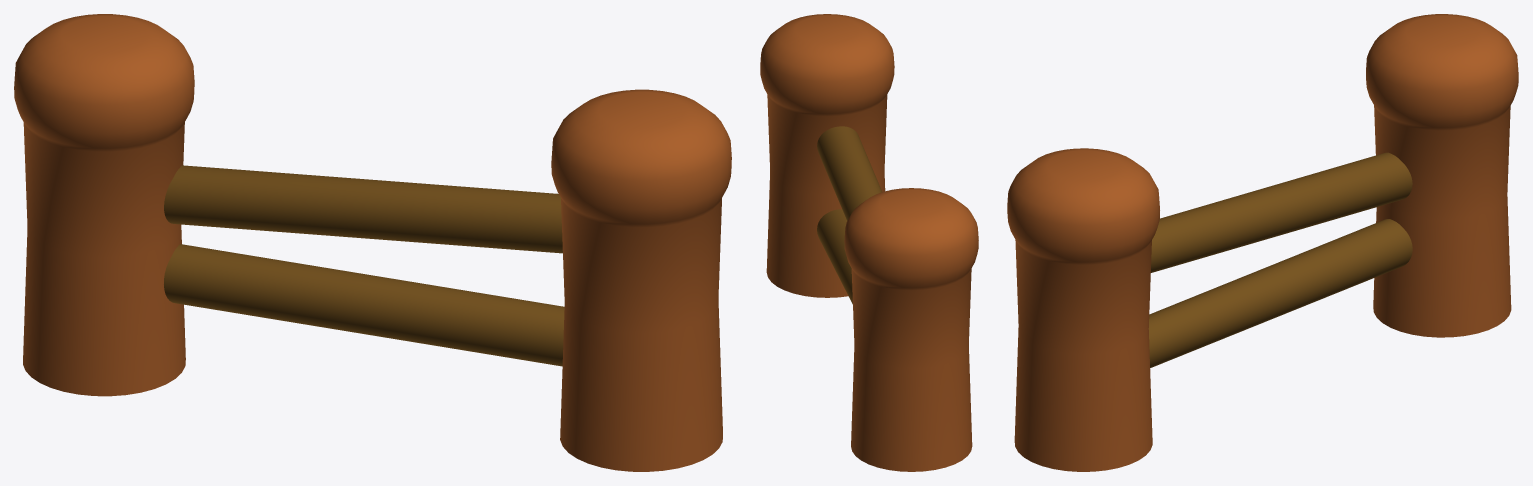
Rendered from Barrière.fbx.
3 views of the same model, side by side, from view 1: azimuth 30°, elevation 25°; view 2: azimuth 150°, elevation 25°; view 3: azimuth 270°, elevation 25° (orthographic). The views are drawn at different scales.
Parts seen in each view (by area): view 1: Cylinder.057, Cylinder.055, Cylinder.054, Cylinder.056; view 2: Cylinder.055, Cylinder.057, Cylinder.056, Cylinder.054; view 3: Cylinder.057, Cylinder.055, Cylinder.054, Cylinder.056.
Boxes of the visible parts, x1,y1,x2,y2 form: Cylinder.057: (551,89,731,471); Cylinder.055: (14,14,194,396); Cylinder.054: (164,244,564,366); Cylinder.056: (164,165,562,253); Cylinder.055: (844,188,978,471); Cylinder.057: (760,14,894,297); Cylinder.056: (817,126,881,220); Cylinder.054: (817,209,852,304); Cylinder.057: (1007,148,1159,471); Cylinder.055: (1366,14,1518,337); Cylinder.054: (1148,219,1412,368); Cylinder.056: (1151,152,1412,272).
Size of the model in its own units: 328 by 213 by 356.
